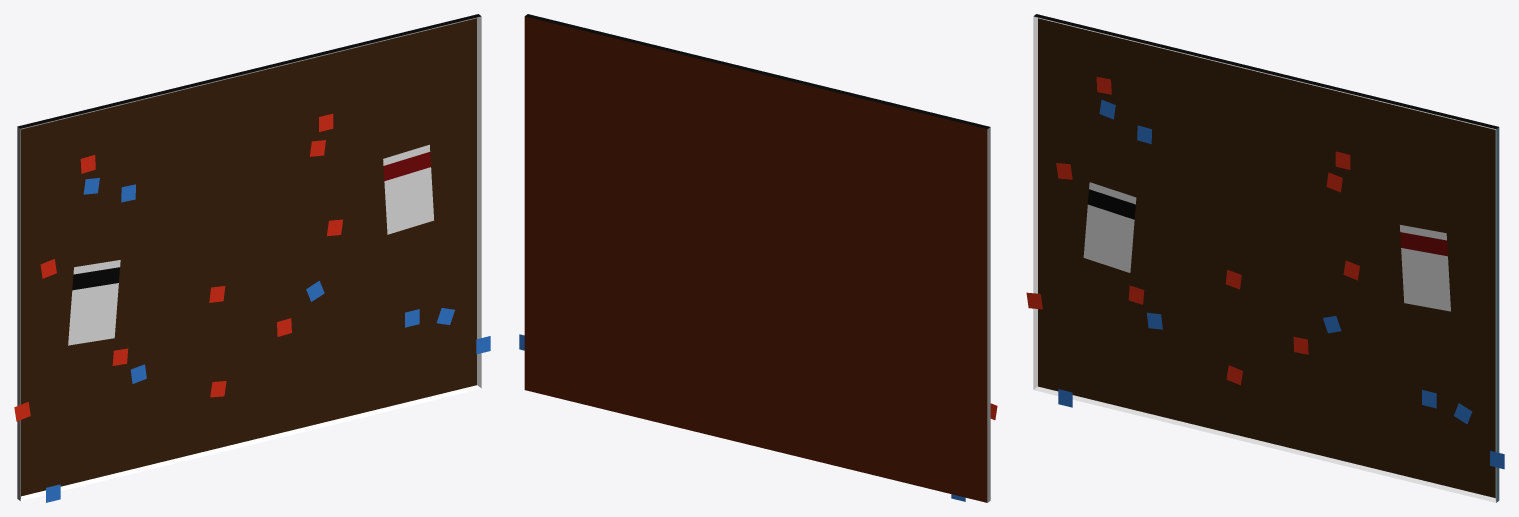
The model's file is TablonOficina.FBX.
3 renders of one model, left to right at view 1: azimuth 30°, elevation 25°; view 2: azimuth 150°, elevation 25°; view 3: azimuth 330°, elevation 25°, orthographic.
Visible parts, largest first — view 1: Tablon; view 2: Tablon; view 3: Tablon.
Part boxes in pixels (x1,y1,x2,y2): Tablon: (14,14,490,502); Tablon: (519,14,997,502); Tablon: (1026,14,1504,502).
Bounding box in the file's own units: 6.69 × 5.1 × 0.0858.
